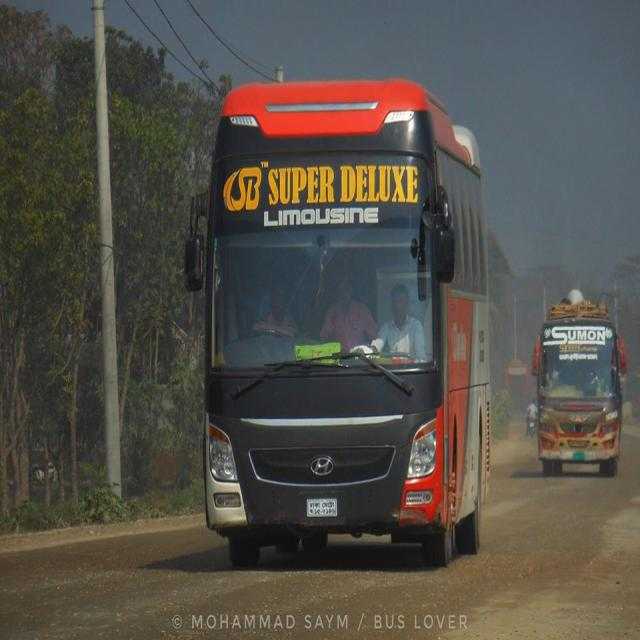bus: (182, 79, 489, 568), (533, 319, 628, 478)
